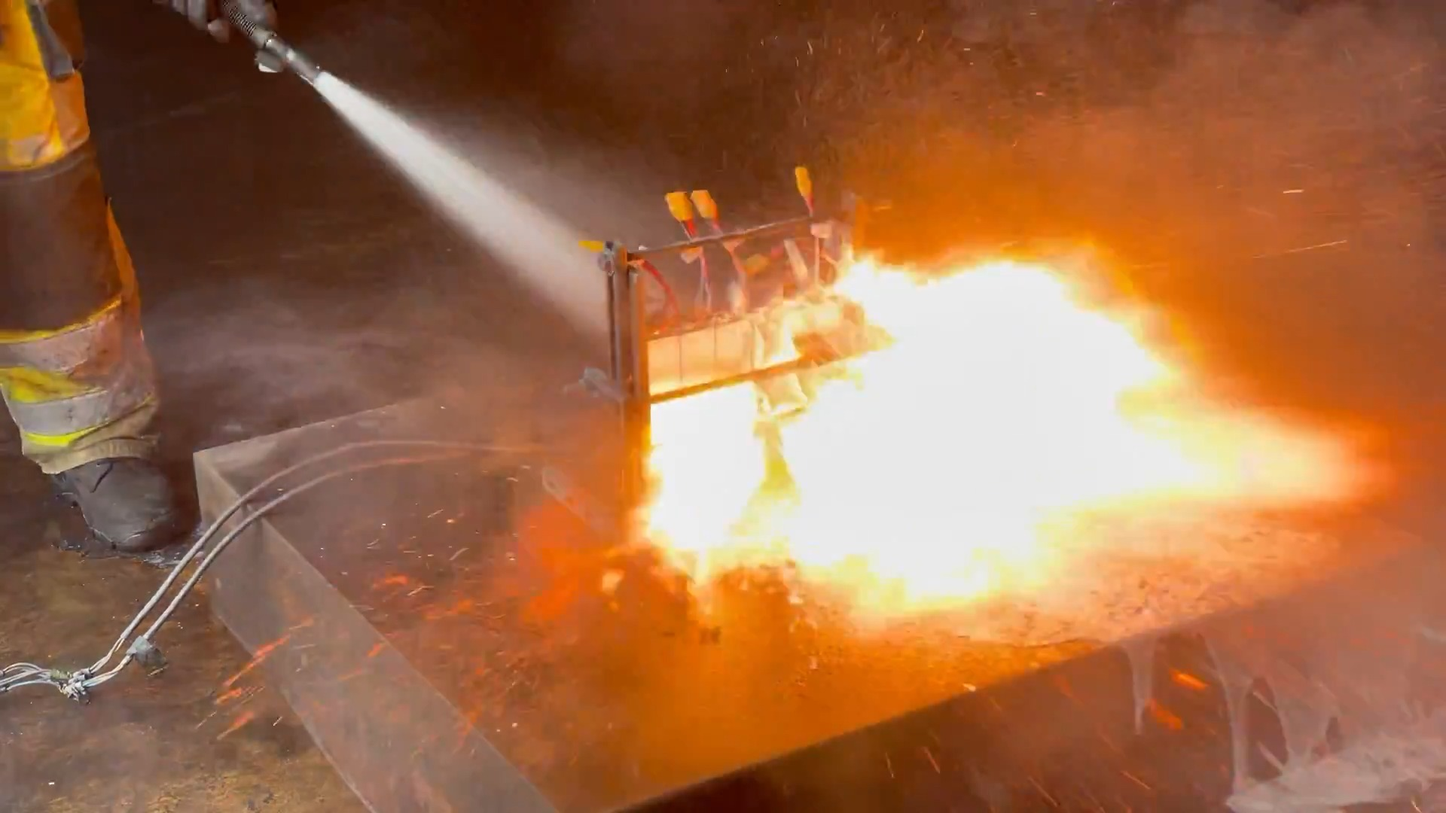fire: (628, 239, 1398, 626)
